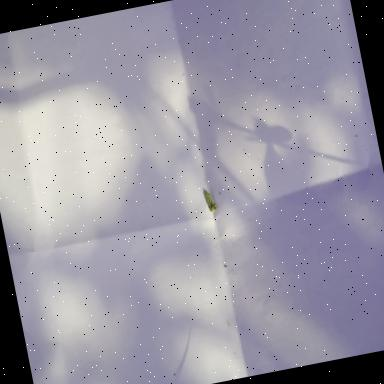pbw: (203, 188, 218, 214)
